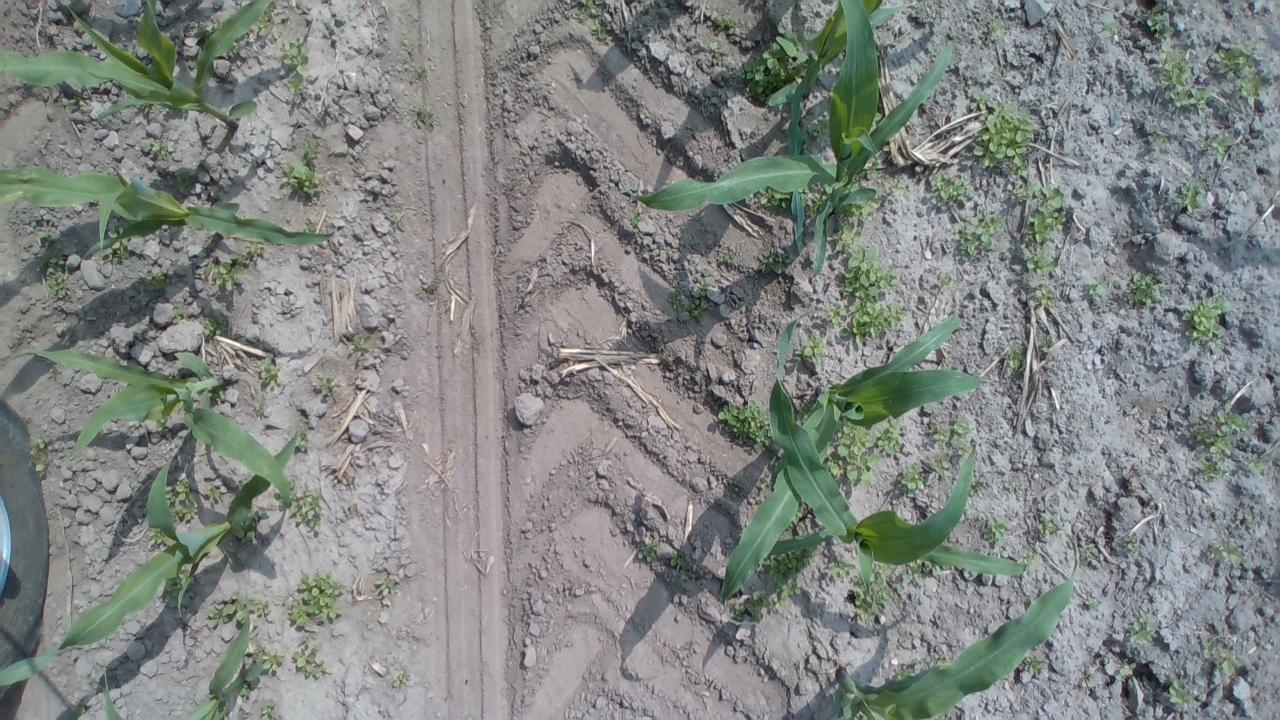Maize: (616, 0, 954, 279), (721, 312, 991, 609), (0, 428, 299, 680), (769, 309, 1028, 595), (826, 529, 1082, 720), (8, 339, 294, 509), (0, 0, 274, 128), (0, 168, 340, 252), (102, 603, 270, 720), (770, 0, 914, 108)
Weeds: (839, 246, 907, 346), (969, 93, 1036, 174), (735, 30, 811, 92), (1152, 42, 1211, 115), (825, 422, 880, 485), (34, 229, 80, 300), (759, 546, 818, 600), (288, 570, 342, 626), (717, 398, 773, 450), (1192, 403, 1248, 455), (1182, 295, 1232, 348), (833, 197, 881, 252), (280, 140, 327, 196), (213, 241, 264, 292), (1024, 185, 1066, 243), (852, 562, 892, 622), (208, 590, 268, 628), (956, 214, 1004, 258), (164, 476, 200, 528), (668, 276, 709, 321), (100, 214, 130, 268), (1217, 38, 1256, 78), (290, 488, 322, 531), (732, 592, 781, 620), (932, 170, 969, 207), (1203, 642, 1241, 676), (252, 5, 290, 39), (278, 36, 310, 76), (932, 414, 972, 444), (872, 414, 902, 454), (1025, 242, 1056, 279), (1140, 5, 1174, 38), (1237, 73, 1267, 110), (902, 558, 941, 586), (1127, 272, 1160, 304), (1173, 181, 1206, 213), (294, 647, 329, 677), (28, 432, 54, 472), (800, 119, 830, 153), (1130, 610, 1156, 645), (164, 569, 194, 598), (1198, 455, 1228, 484), (670, 548, 696, 580), (758, 247, 791, 272), (758, 184, 791, 208), (897, 463, 924, 492), (794, 336, 824, 362), (1208, 542, 1242, 564), (800, 188, 826, 216), (1168, 678, 1194, 706), (257, 356, 281, 386), (984, 516, 1008, 546), (253, 648, 284, 670), (1208, 131, 1234, 157), (828, 554, 854, 580), (1012, 178, 1040, 202), (1084, 275, 1108, 303), (1030, 282, 1056, 307), (274, 478, 296, 507), (1004, 344, 1025, 374), (1022, 652, 1048, 676), (193, 18, 222, 39), (636, 539, 662, 562), (146, 269, 174, 290), (576, 0, 602, 22), (932, 452, 954, 477), (348, 334, 372, 356), (310, 374, 334, 396), (203, 314, 225, 338), (375, 572, 396, 596), (713, 16, 741, 34), (821, 306, 846, 326), (1017, 550, 1039, 572), (260, 699, 282, 720), (235, 523, 256, 543), (591, 19, 611, 40), (794, 401, 814, 422), (67, 88, 88, 108), (985, 18, 1004, 40), (1122, 534, 1142, 554), (1248, 455, 1269, 474), (292, 424, 310, 446), (885, 178, 907, 196), (150, 136, 168, 158), (285, 76, 306, 94), (862, 158, 879, 180), (204, 483, 222, 503), (417, 105, 437, 123), (719, 251, 742, 266), (393, 670, 411, 688), (842, 177, 861, 194), (171, 306, 188, 325), (708, 40, 728, 56), (148, 528, 165, 546), (934, 274, 951, 292), (1100, 18, 1116, 37), (418, 282, 437, 298), (1038, 520, 1058, 535), (177, 172, 190, 192), (1042, 335, 1057, 352), (971, 476, 988, 491), (956, 442, 974, 456), (238, 681, 252, 698), (252, 396, 265, 414), (211, 384, 226, 399), (934, 651, 950, 665), (1120, 662, 1136, 676), (155, 418, 168, 435), (1151, 132, 1169, 144), (630, 212, 640, 232), (1084, 595, 1100, 607), (896, 668, 912, 680), (793, 506, 803, 524), (392, 214, 403, 230), (302, 221, 314, 234), (1080, 674, 1091, 688), (758, 476, 772, 487), (403, 40, 415, 52), (72, 705, 85, 716), (164, 106, 178, 116), (237, 710, 250, 720), (872, 112, 882, 124), (942, 362, 957, 370), (920, 659, 930, 670), (140, 103, 150, 114), (200, 268, 210, 279), (415, 66, 424, 78), (301, 636, 313, 644), (1010, 479, 1020, 488), (1242, 520, 1252, 528), (1083, 550, 1092, 558), (320, 104, 326, 114)
